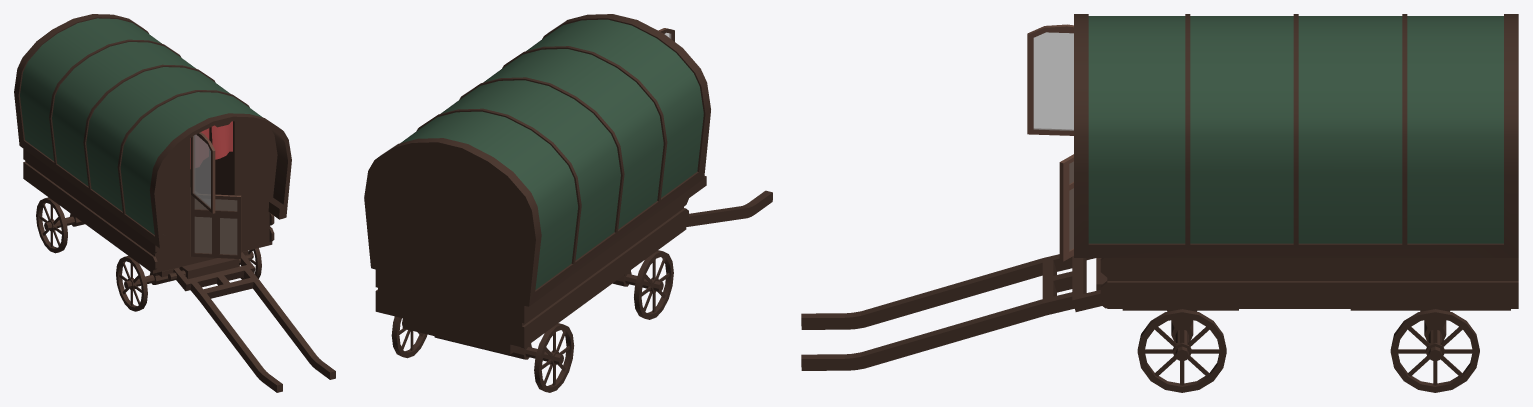
Rendered from trailer.glb.
3 views of the same model, side by side, from view 1: azimuth 30°, elevation 25°; view 2: azimuth 150°, elevation 25°; view 3: azimuth 270°, elevation 25° (orthographic). The views are drawn at different scales.
Parts seen in each view (by area): view 1: Trailer; view 2: Trailer; view 3: Trailer.
Part boxes in pixels (x1,y1,x2,y2): Trailer: (14,14,335,392); Trailer: (364,14,772,392); Trailer: (801,14,1518,392).
Size of the model in its own units: 3.19 by 4.5 by 9.09.
Materials: 19 (18 with a texture image).
